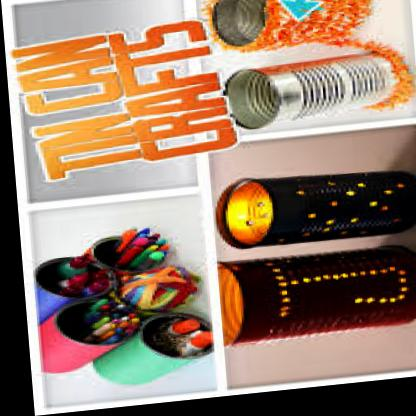Metal: (223, 47, 399, 139)
